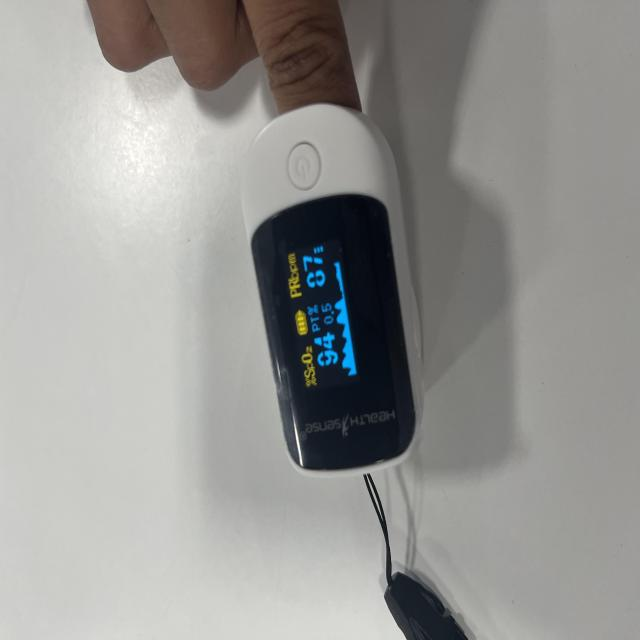spo2: (241, 101, 425, 478)
